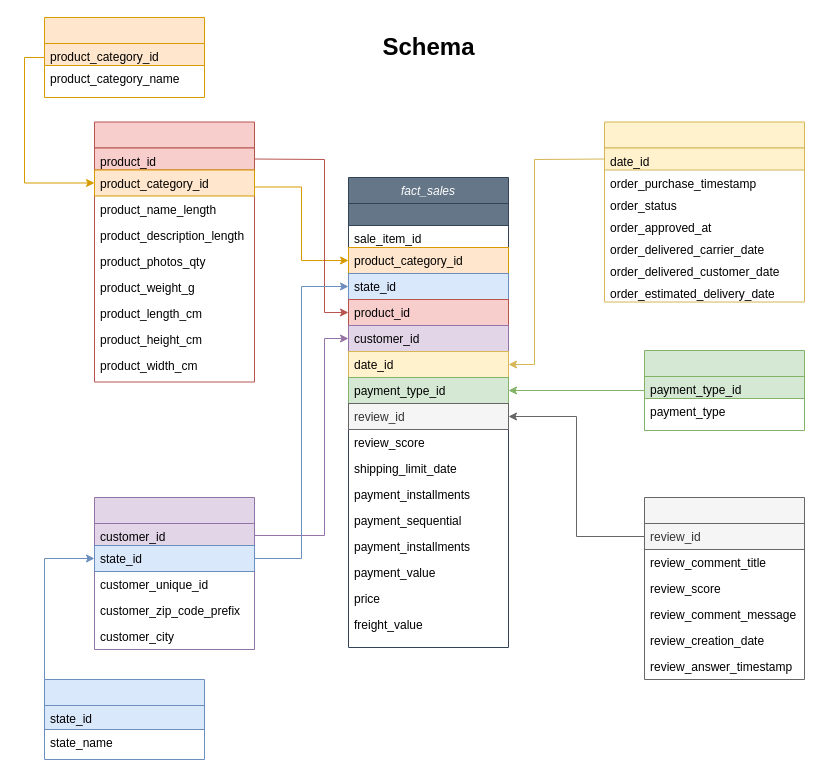
Image size: 822x777. Some labels were removed from this diagram. Each missing label, with the box of its shape:
dim_customers: (94, 496, 254, 650)
dim_dates: (604, 121, 804, 302)
dim_payment_types: (644, 350, 804, 430)
dim_product_categories: (44, 16, 204, 98)
dim_products: (94, 121, 254, 382)
dim_reviews: (644, 496, 804, 680)
dim_states: (44, 678, 204, 760)
sale_id: (348, 202, 508, 226)
